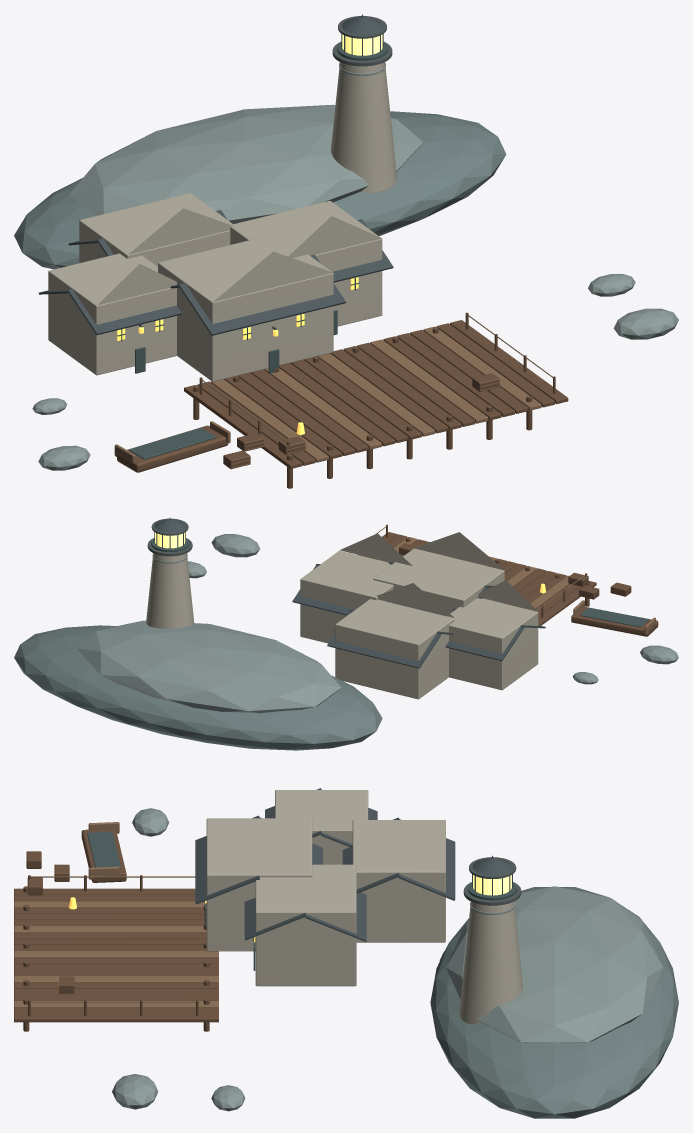
File: bellweather-harbor.glb
3 renders of one model, top to bottom at view 1: azimuth 30°, elevation 25°; view 2: azimuth 150°, elevation 25°; view 3: azimuth 270°, elevation 25°, orthographic. The views are drawn at different scales.
Visible parts, largest first — view 1: Headland crown, Mara workshop | plaster walls, North granite headland, Fish shed | plaster walls, Bellweather lighthouse, Lighthouse keeper cottage | plaster walls, Harbor store | plaster walls, Mara workshop | gable, Mara workshop | slate roof, Harbor store | gable, Lighthouse keeper cottage | gable, Shoreline wet rock.002 (+28 smaller); view 2: Headland crown, North granite headland, Harbor store | plaster walls, Fish shed | plaster walls, Lighthouse keeper cottage | plaster walls, Mara workshop | plaster walls, Bellweather lighthouse, Mara workshop | gable, Harbor store | gable, Lighthouse keeper cottage | gable, Harbor store | slate roof.001, Shoreline wet rock.002 (+10 smaller); view 3: Headland crown, North granite headland, Lighthouse keeper cottage | plaster walls, Harbor store | plaster walls, Mara workshop | plaster walls, Bellweather lighthouse, Fish shed | plaster walls, Pier deck | cedar plank.020, Pier deck | cedar plank.010, Pier deck | cedar plank.013, Pier deck | cedar plank.011, Pier deck | cedar plank.017 (+27 smaller).
Boxes of the visible parts, x1,y1,x2,y2 form: Headland crown: [69, 104, 422, 223]; Mara workshop | plaster walls: [158, 233, 333, 381]; North granite headland: [14, 111, 506, 269]; Fish shed | plaster walls: [48, 253, 176, 375]; Bellweather lighthouse: [331, 62, 396, 193]; Lighthouse keeper cottage | plaster walls: [230, 200, 382, 326]; Harbor store | plaster walls: [79, 193, 232, 266]; Mara workshop | gable: [213, 251, 333, 302]; Mara workshop | slate roof: [179, 254, 345, 335]; Harbor store | gable: [128, 208, 232, 254]; Lighthouse keeper cottage | gable: [288, 216, 382, 257]; Shoreline wet rock.002: [613, 308, 678, 339]; Headland crown: [76, 620, 341, 713]; North granite headland: [14, 625, 382, 750]; Harbor store | plaster walls: [335, 599, 454, 699]; Fish shed | plaster walls: [447, 598, 538, 690]; Lighthouse keeper cottage | plaster walls: [300, 550, 393, 643]; Mara workshop | plaster walls: [373, 548, 504, 613]; Bellweather lighthouse: [146, 553, 194, 628]; Mara workshop | gable: [414, 532, 504, 569]; Harbor store | gable: [376, 583, 454, 617]; Lighthouse keeper cottage | gable: [340, 533, 412, 566]; Harbor store | slate roof.001: [327, 611, 441, 668]; Shoreline wet rock.002: [211, 534, 260, 557]; Headland crown: [446, 886, 663, 1042]; North granite headland: [430, 887, 678, 1118]; Lighthouse keeper cottage | plaster walls: [255, 864, 356, 986]; Harbor store | plaster walls: [352, 820, 445, 942]; Mara workshop | plaster walls: [206, 818, 312, 951]; Bellweather lighthouse: [459, 901, 522, 1024]; Fish shed | plaster walls: [275, 790, 368, 864]; Pier deck | cedar plank.020: [14, 1013, 218, 1022]; Pier deck | cedar plank.010: [14, 951, 218, 957]; Pier deck | cedar plank.013: [14, 969, 218, 975]; Pier deck | cedar plank.011: [14, 957, 218, 963]; Pier deck | cedar plank.017: [14, 994, 218, 1000].
Size of what is drawn, in the model's own units: 47.65 by 15.38 by 42.8.
